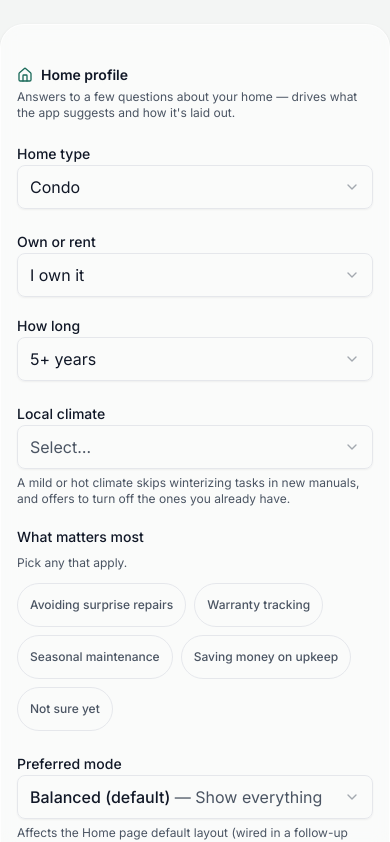
Test: Settings › Home profile · the winterizing offer after a Mild/Hot save › turns off only the ticked ones, then says so in the UndoBar
The width and height of the screenshot is (390, 842).
Click the dropdown named "Local climate".
click(60, 447)  # box [17, 425, 373, 469]
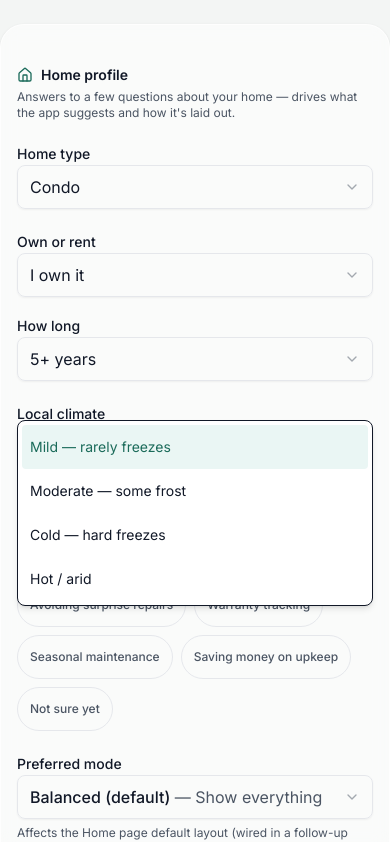
Click the option "Hot / arid".
click(61, 578)  # box [30, 570, 92, 587]
(page scrolled)
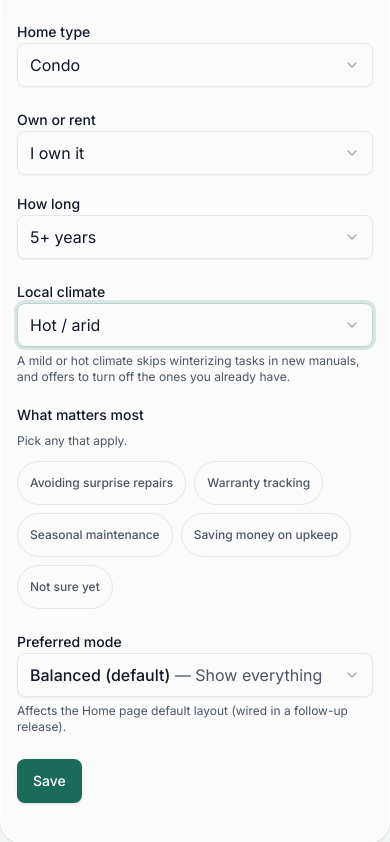
Click the button "Save".
click(49, 781)  # box [17, 759, 82, 803]
(page scrolled)
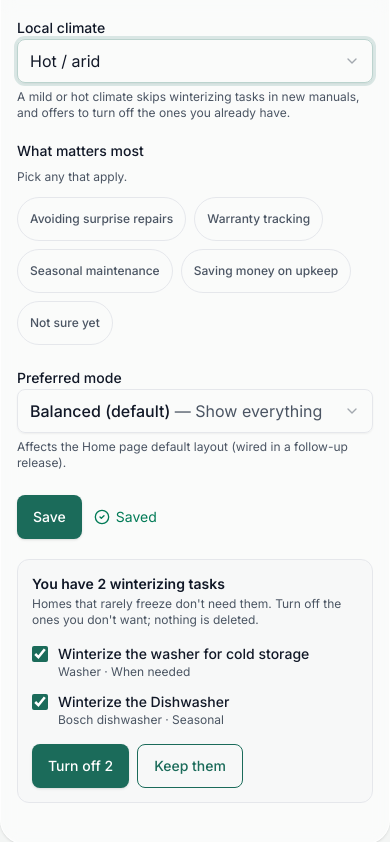
Click the checkbox labelled "Winterize the Dishwasher Bosch dishwasher · Seasonal".
click(40, 702)  # box [32, 694, 48, 710]
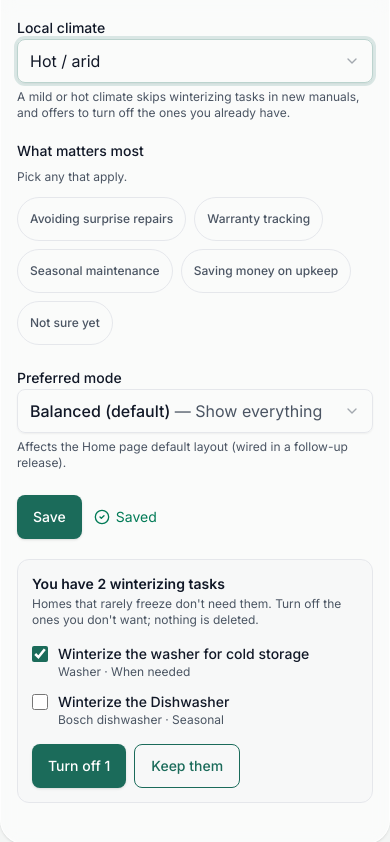
Click the button "Turn off 1".
click(79, 766)  # box [32, 744, 126, 788]
(page scrolled)
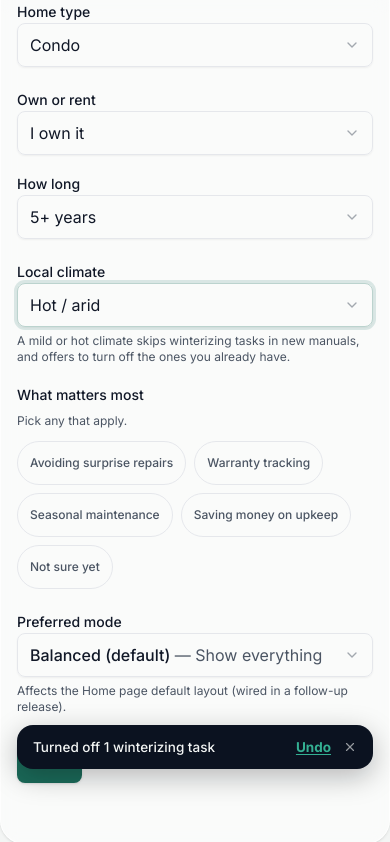
Result: the message shows "Turned off 1 winterizing task" at [33, 739, 215, 755]
Result: the button "Undo" is shown at [296, 737, 331, 757]
Result: the element with test id "winterizing-offer" is gone
